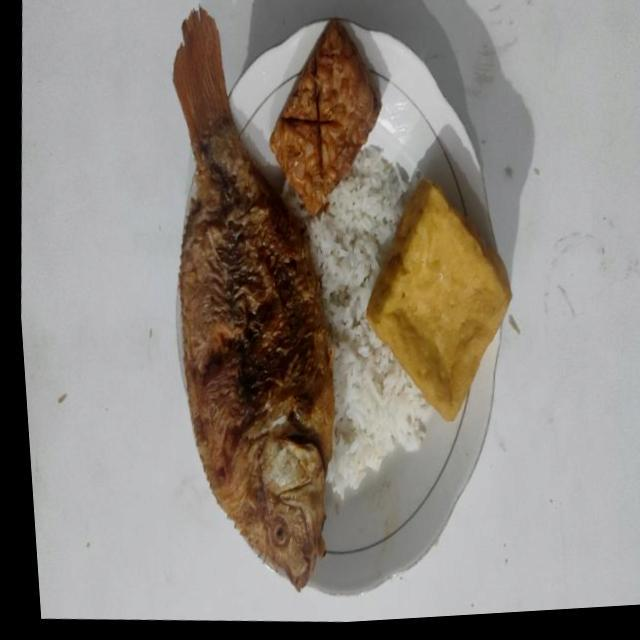ikan_mujair: (173, 7, 334, 590)
nasi_putih: (304, 144, 434, 498)
tahu_goreng: (366, 178, 511, 420)
tempe_goreng: (270, 18, 380, 215)
